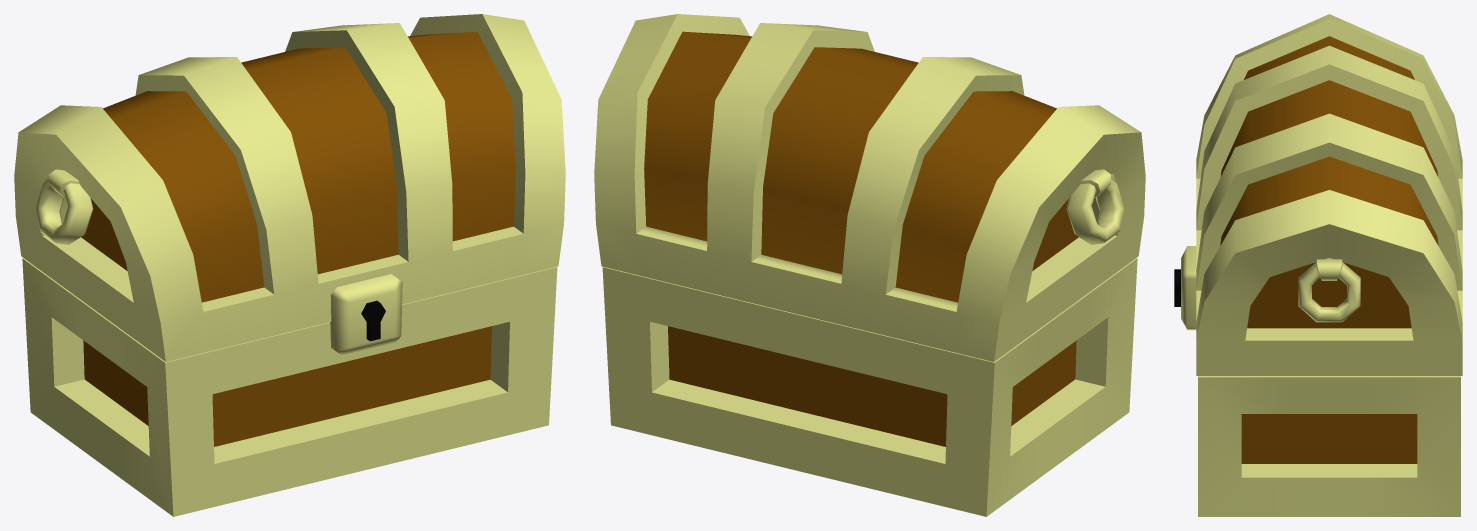
File: TreasureBox.fbx
3 renders of one model, left to right at view 1: azimuth 30°, elevation 25°; view 2: azimuth 150°, elevation 25°; view 3: azimuth 270°, elevation 25°, orthographic. The views are drawn at different scales.
Visible parts, largest first — view 1: TreasureUp, TreasureDown; view 2: TreasureUp, TreasureDown; view 3: TreasureUp, TreasureDown.
Boxes of the visible parts, box(x1,y1,x2,y2) form: TreasureUp: box(14, 14, 565, 361); TreasureDown: box(22, 258, 557, 516); TreasureUp: box(594, 14, 1145, 361); TreasureDown: box(602, 258, 1137, 516); TreasureUp: box(1174, 14, 1462, 375); TreasureDown: box(1198, 376, 1460, 516).
Bounding box in the file's own units: 5.9 × 4.37 × 3.31.
